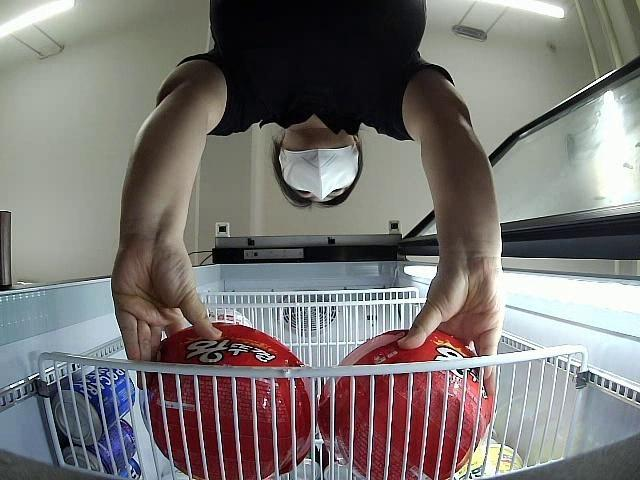10_wangTtukkeong: (138, 318, 314, 480), (312, 327, 493, 480)
